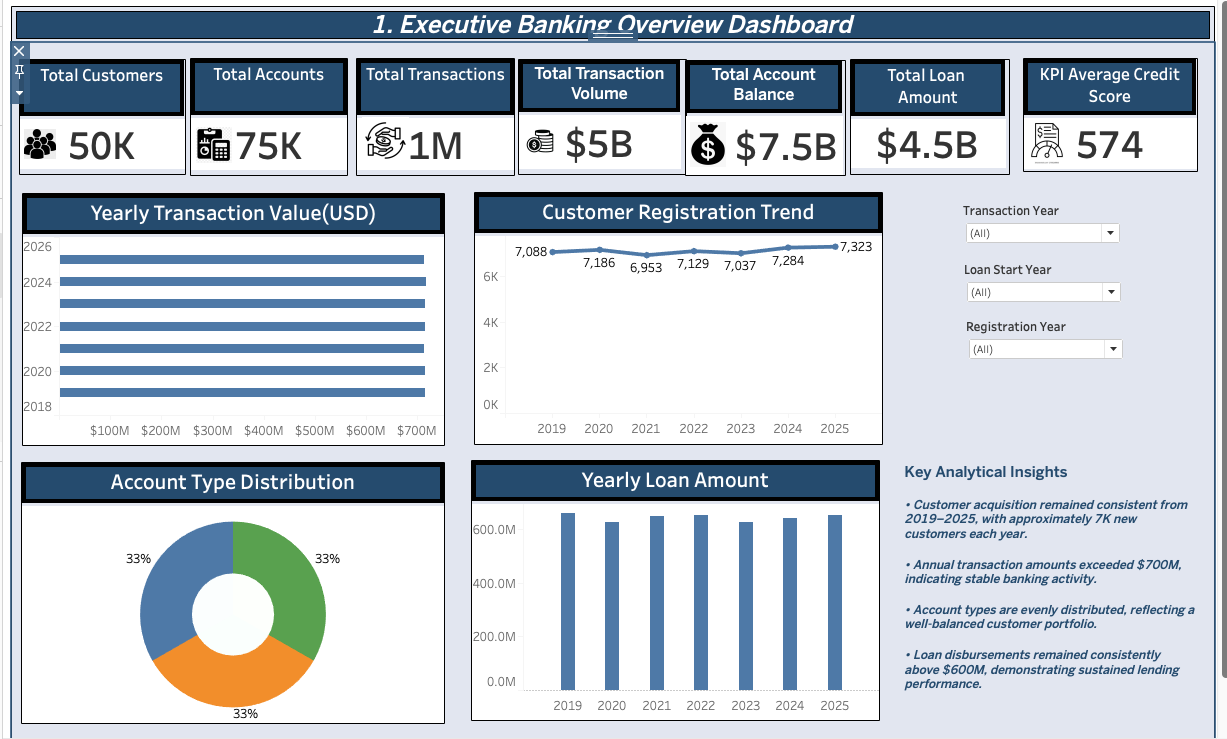

The dashboard page shown, as its layout file describes it:
{"tool":"tableau","page":{"name":"DASHBOARD 1. BANKING EXECUTIVE OVERVIEW  ","canvas":[1220,800],"ordinal":0},"visuals":[{"type":"title","box":[9,9,1202,36]},{"type":"worksheet","title":"2.KPI_Total_Accounts","mark":"Text","box":[187,60,158,118]},{"type":"worksheet","title":"3.KPI_Total_Transactions","mark":"Text","box":[353,60,159,118]},{"type":"worksheet","title":"7.KPI_Average_Credit_Score","mark":"Automatic","box":[1020,60,175,114]},{"type":"worksheet","title":"1.KPI_Total_Customers","mark":"Text","box":[16,61,167,116]},{"type":"worksheet","title":"4.KPI_Total_Transaction _Volume","mark":"Automatic","box":[515,61,169,116]},{"type":"worksheet","title":"6.KPI_Total_Loan_Amount","mark":"Text","box":[847,61,160,116]},{"type":"worksheet","title":"5.KPI_Total_Account_Balance","mark":"Text","box":[682,62,161,116]},{"type":"image","param":"/Users/bussathejaswini/Downloads/TRANS.png","box":[359,119,55,47]},{"type":"image","param":"/Users/bussathejaswini/Downloads/CS.jpeg","box":[1024,122,57,44]},{"type":"image","param":"/Users/bussathejaswini/Downloads/MON.png","box":[687,124,44,45]},{"type":"image","param":"/Users/bussathejaswini/Downloads/CASH.jpeg","box":[521,127,36,32]},{"type":"image","param":"/Users/bussathejaswini/Downloads/ACC.png","box":[193,129,37,36]},{"type":"image","param":"/Users/bussathejaswini/Downloads/CUST.jpeg","box":[21,131,43,30]},{"type":"worksheet","title":"8.CH_Customer_Growth_Trend","mark":"Line","rows":["customer_id"],"cols":["Registration_Year"],"box":[471,194,409,253]},{"type":"worksheet","title":"9.CH_Yearly_Transaction_Trend","mark":"Bar","rows":["transaction_date"],"cols":["amount_usd"],"box":[19,195,423,253]},{"type":"filter","title":"9.CH_Yearly_Transaction_Trend","param":"[federated.0l0uwan0u13drs14cdgol1eprp4j].[none:Transaction_Year:ok]","box":[960,204,160,44]},{"type":"filter","title":"11.CH_Loan_Amount_By_Year","param":"[federated.0l0uwan0u13drs14cdgol1eprp4j].[none:Loan_Start_Year:ok]","box":[961,263,160,44]},{"type":"filter","title":"8.CH_Customer_Growth_Trend","param":"[federated.0l0uwan0u13drs14cdgol1eprp4j].[none:Registration_Year:ok]","box":[963,320,160,44]},{"type":"text","box":[899,412,298,342]},{"type":"worksheet","title":"11.CH_Loan_Amount_By_Year","mark":"Bar","rows":["loan_amount"],"cols":["Loan_Start_Year"],"box":[468,462,409,261]},{"type":"worksheet","title":"10.CH_Account_Type_Distribution","mark":"Pie","rows":["Calculation_178595894877138947","Calculation_178595894877138947"],"box":[18,464,424,262]}]}

Visuals, with their boxes on the page's 1220x800 design canvas (x1, y1, x2, y2). These are canvas units, not pixel positions in the 1227x739 screenshot, which may show the page scaled, cropped or inside an application window:
title: <bbox>9, 9, 1211, 45</bbox>
"2.KPI_Total_Accounts" worksheet (Text marks): <bbox>187, 60, 345, 178</bbox>
"3.KPI_Total_Transactions" worksheet (Text marks): <bbox>353, 60, 512, 178</bbox>
"7.KPI_Average_Credit_Score" worksheet: <bbox>1020, 60, 1195, 174</bbox>
"1.KPI_Total_Customers" worksheet (Text marks): <bbox>16, 61, 183, 177</bbox>
"4.KPI_Total_Transaction _Volume" worksheet: <bbox>515, 61, 684, 177</bbox>
"6.KPI_Total_Loan_Amount" worksheet (Text marks): <bbox>847, 61, 1007, 177</bbox>
"5.KPI_Total_Account_Balance" worksheet (Text marks): <bbox>682, 62, 843, 178</bbox>
image: <bbox>359, 119, 414, 166</bbox>
image: <bbox>1024, 122, 1081, 166</bbox>
image: <bbox>687, 124, 731, 169</bbox>
image: <bbox>521, 127, 557, 159</bbox>
image: <bbox>193, 129, 230, 165</bbox>
image: <bbox>21, 131, 64, 161</bbox>
"8.CH_Customer_Growth_Trend" worksheet (Line marks): <bbox>471, 194, 880, 447</bbox>
"9.CH_Yearly_Transaction_Trend" worksheet (Bar marks): <bbox>19, 195, 442, 448</bbox>
"9.CH_Yearly_Transaction_Trend" filter: <bbox>960, 204, 1120, 248</bbox>
"11.CH_Loan_Amount_By_Year" filter: <bbox>961, 263, 1121, 307</bbox>
"8.CH_Customer_Growth_Trend" filter: <bbox>963, 320, 1123, 364</bbox>
text: <bbox>899, 412, 1197, 754</bbox>
"11.CH_Loan_Amount_By_Year" worksheet (Bar marks): <bbox>468, 462, 877, 723</bbox>
"10.CH_Account_Type_Distribution" worksheet (Pie marks): <bbox>18, 464, 442, 726</bbox>
